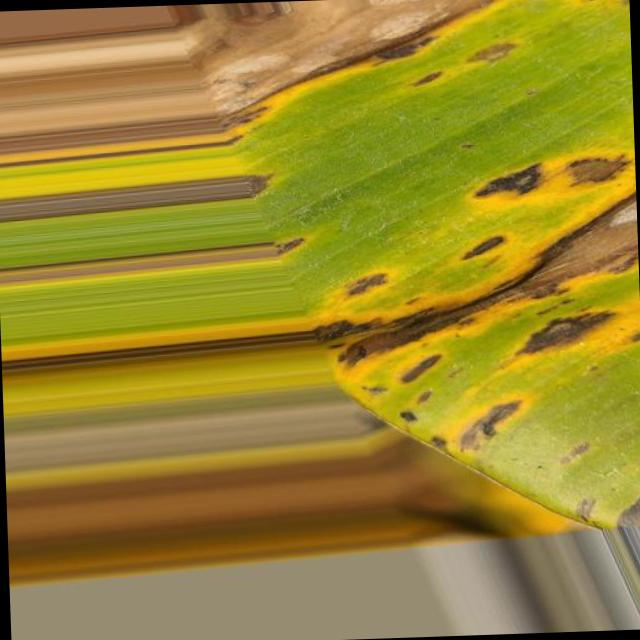Banana_Black_Sigatoka: (328, 162, 640, 479), (220, 0, 634, 165)
